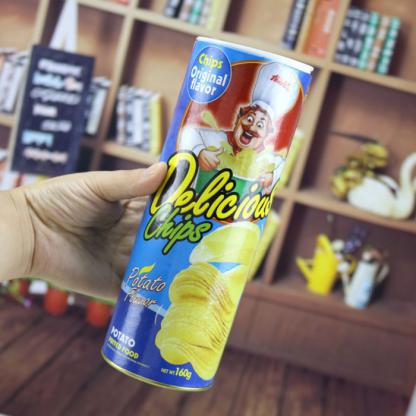potatochip: (97, 30, 320, 395)
